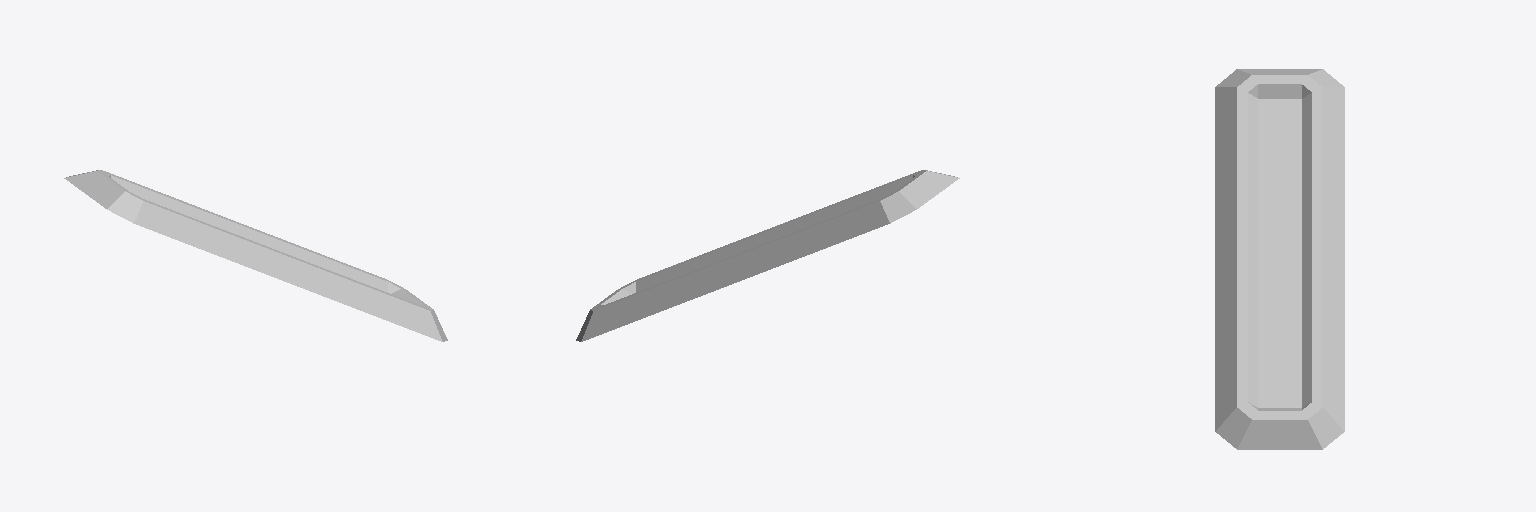
File: Spacestation_Structure_Fuselage_Straight_Band_Window.obj
3 views of the same model, side by side, from view 1: azimuth 30°, elevation 25°; view 2: azimuth 150°, elevation 25°; view 3: azimuth 270°, elevation 25° (orthographic).
Parts seen in each view (by area): view 1: object2; view 2: object2; view 3: object2, object1.
Part boxes in pixels (x1,y1,x2,y2): object2: (64, 170, 447, 341); object2: (576, 170, 959, 341); object2: (1215, 69, 1344, 449); object1: (1258, 99, 1301, 407).
Size of the model in its own units: 0.9143 by 0.5657 by 0.3.